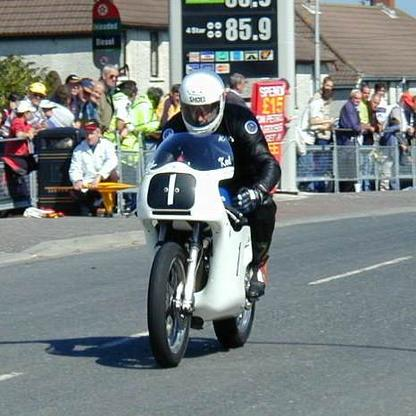target: (134, 69, 283, 368)
